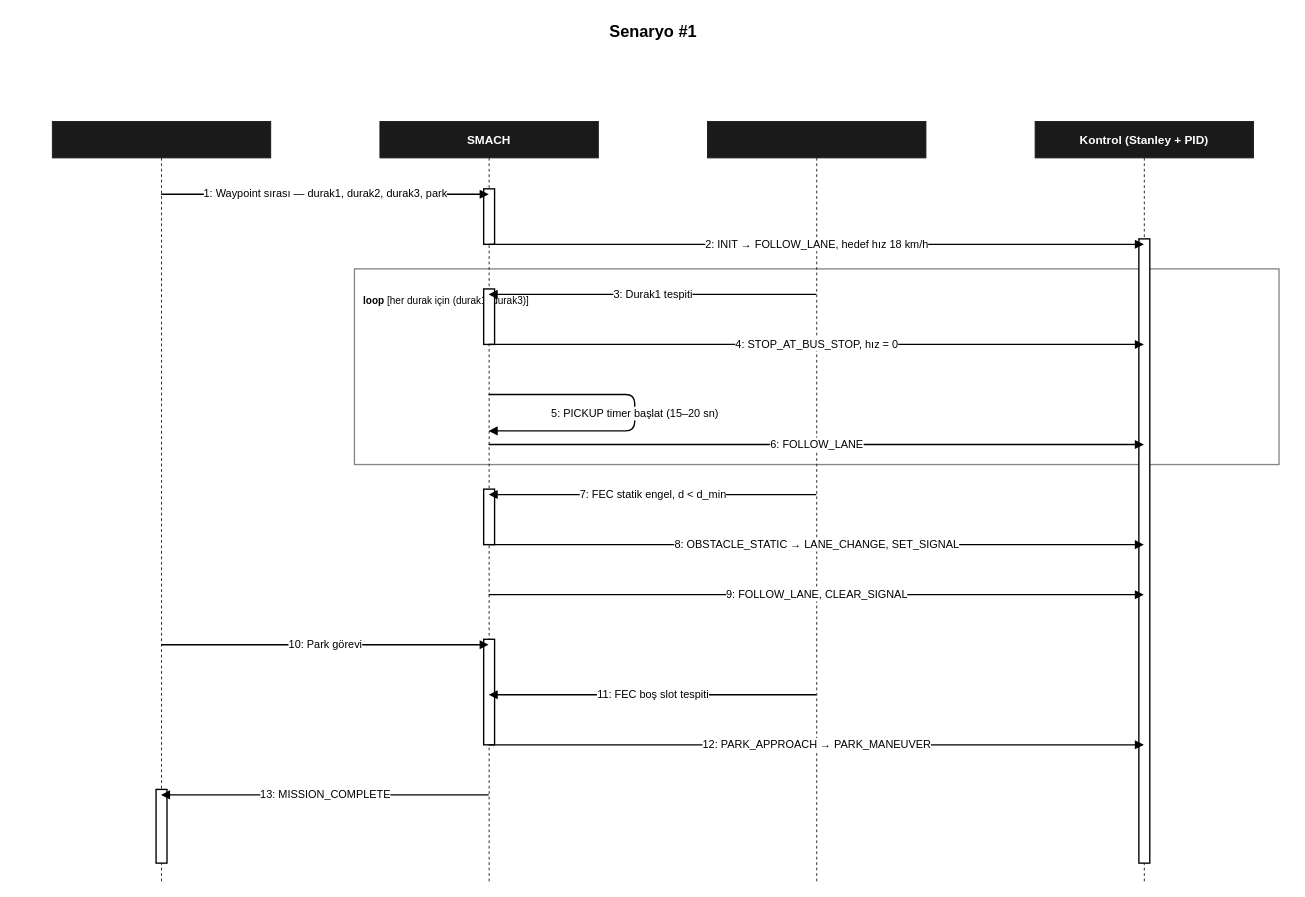
This 1305x897 diagram has some shape labels left out. Each missing label, with the box of its shape:
Algılama (YOLOv26ş + FEC): (707, 121, 926, 881)
OR-Tools: (51, 121, 271, 881)
